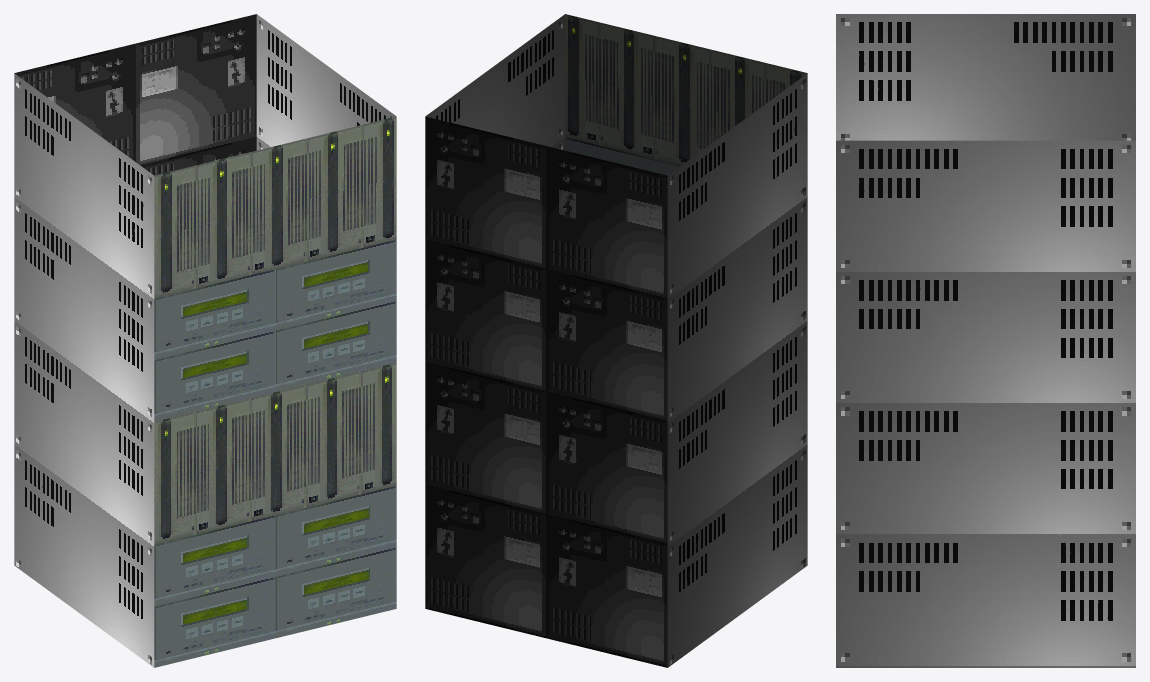
The model's file is Pdoor_mfZ.obj.
The picture shows the model from 3 angles, left to right: view 1: azimuth 30°, elevation 25°; view 2: azimuth 150°, elevation 25°; view 3: azimuth 270°, elevation 25°; orthographic projection. The views are drawn at different scales.
Size of the model in its own units: 466 by 904 by 466.
7 materials, 7 textured.
